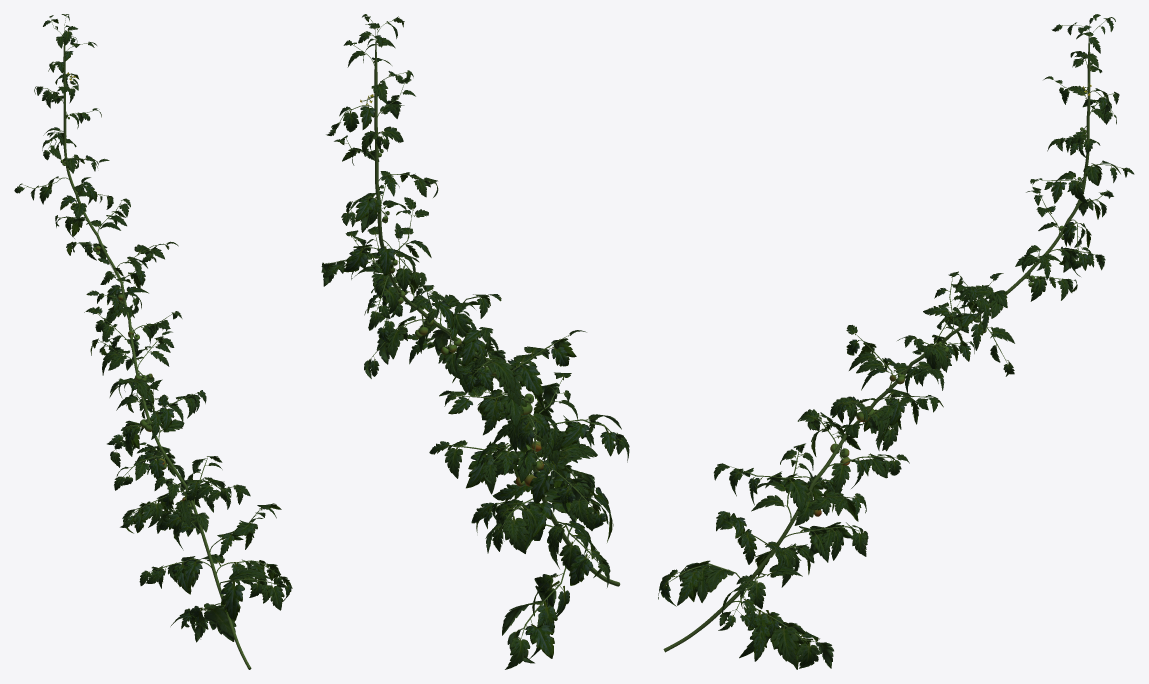
File: tomato_006.glb
3 views of the same model, side by side, from view 1: azimuth 30°, elevation 25°; view 2: azimuth 150°, elevation 25°; view 3: azimuth 270°, elevation 25° (orthographic). The views are drawn at different scales.
Parts seen in each view (by area): view 1: tomato_006; view 2: tomato_006; view 3: tomato_006.
Part boxes in pixels (x1,y1,x2,y2): tomato_006: (14,14,292,669); tomato_006: (321,14,629,669); tomato_006: (658,14,1134,669).
Bounding box in the file's own units: 0.7963 × 2.98 × 1.98.
Materials: 17 (16 with a texture image).
